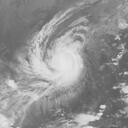cyclone: (29, 30, 84, 88)
